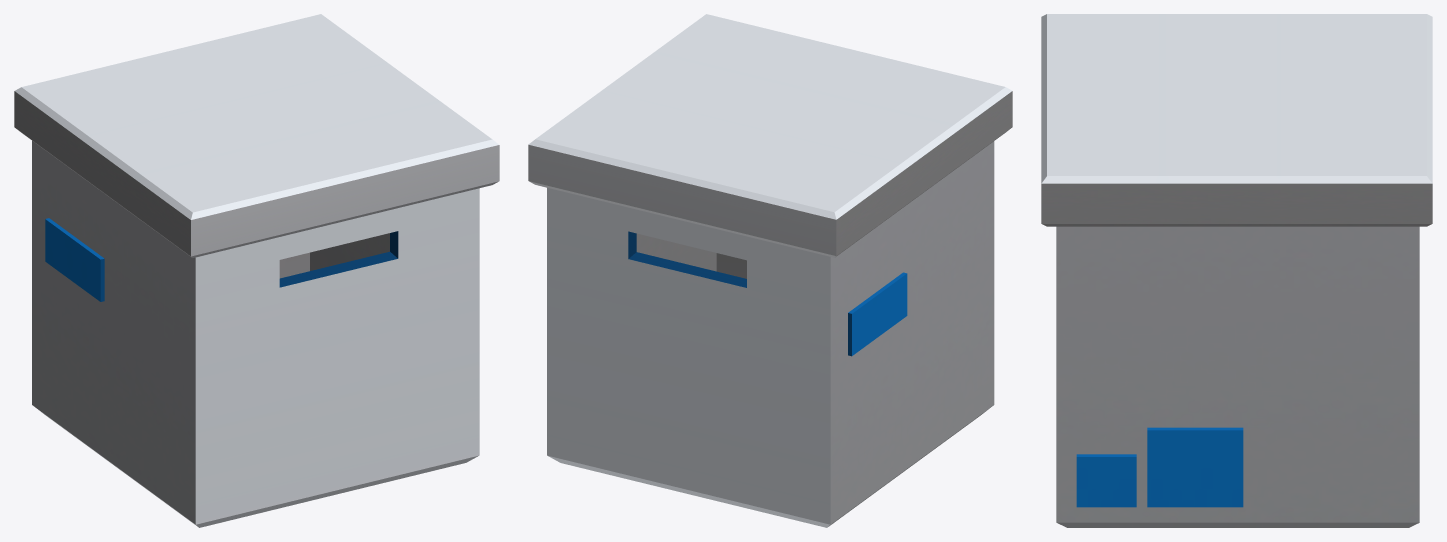
3 renders of one model, left to right at view 1: azimuth 30°, elevation 25°; view 2: azimuth 150°, elevation 25°; view 3: azimuth 270°, elevation 25°, orthographic. The views are drawn at different scales.
Visible parts, largest first — view 1: SM_Box02; view 2: SM_Box02; view 3: SM_Box02.
Boxes of the visible parts, <box> form: SM_Box02: <box>14,14,499,527</box>; SM_Box02: <box>528,14,1012,527</box>; SM_Box02: <box>1041,14,1432,527</box>.
Bounding box in the file's own units: 21.43 × 21.63 × 21.23.
